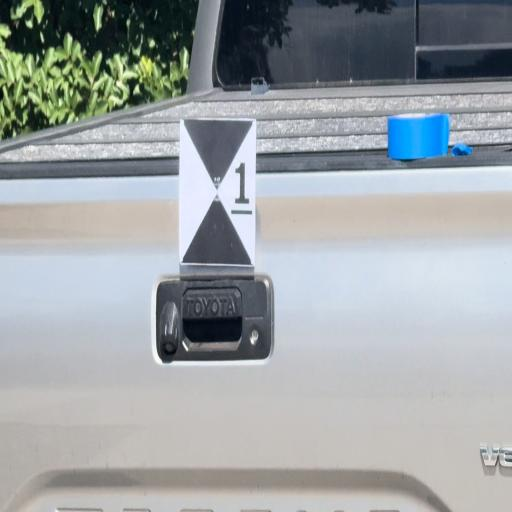target1: (180, 119, 254, 266)
